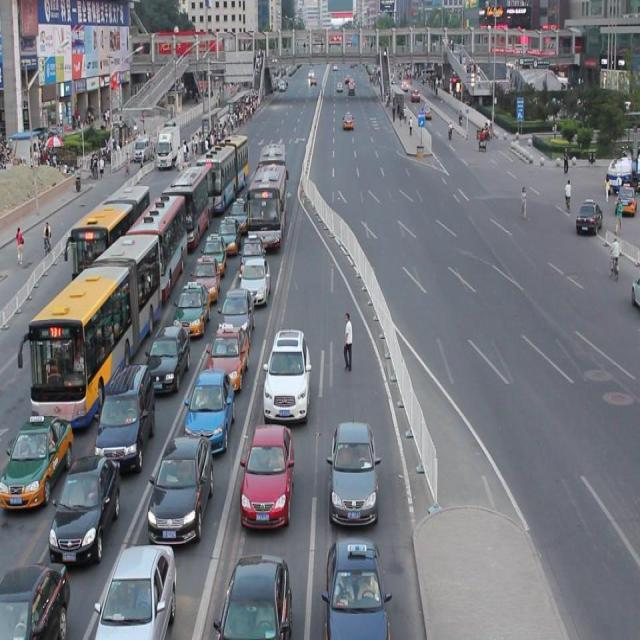BigCar: (26, 233, 160, 418), (248, 159, 295, 251), (157, 122, 180, 172)
car: (324, 533, 393, 640), (1, 539, 74, 640), (220, 544, 295, 640), (150, 438, 212, 548), (326, 420, 389, 520), (112, 538, 170, 640), (269, 326, 312, 431), (102, 371, 148, 467), (238, 422, 287, 512), (61, 455, 110, 544), (11, 411, 62, 496), (147, 316, 187, 390), (208, 310, 242, 395), (189, 366, 228, 440), (234, 248, 274, 314), (575, 194, 603, 240), (133, 135, 150, 170), (340, 110, 357, 135)
